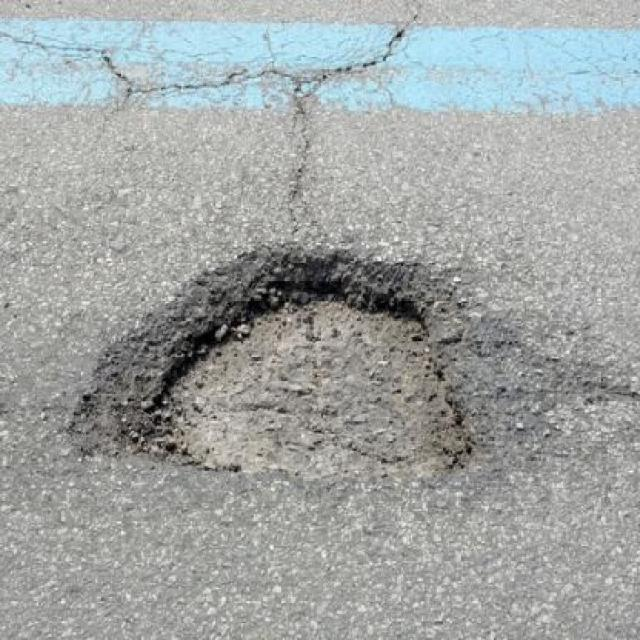Buraco: (62, 239, 490, 496)
